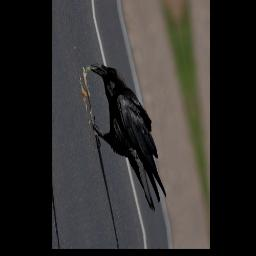Crow: (82, 50, 168, 225)
